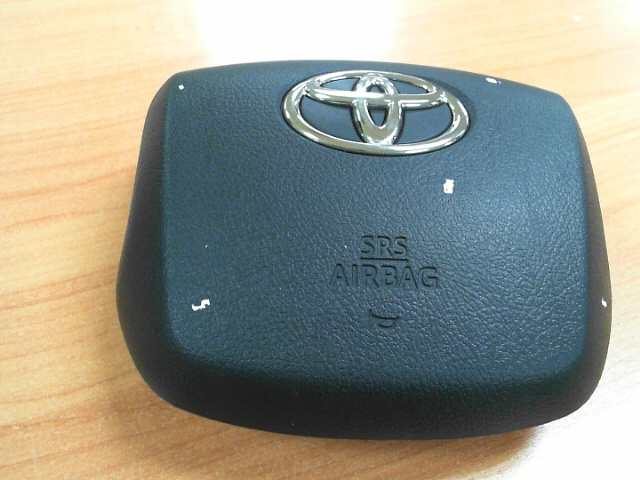Airbag: (191, 299, 211, 312), (442, 179, 455, 195), (485, 77, 501, 85), (602, 296, 608, 307), (179, 85, 184, 90)
